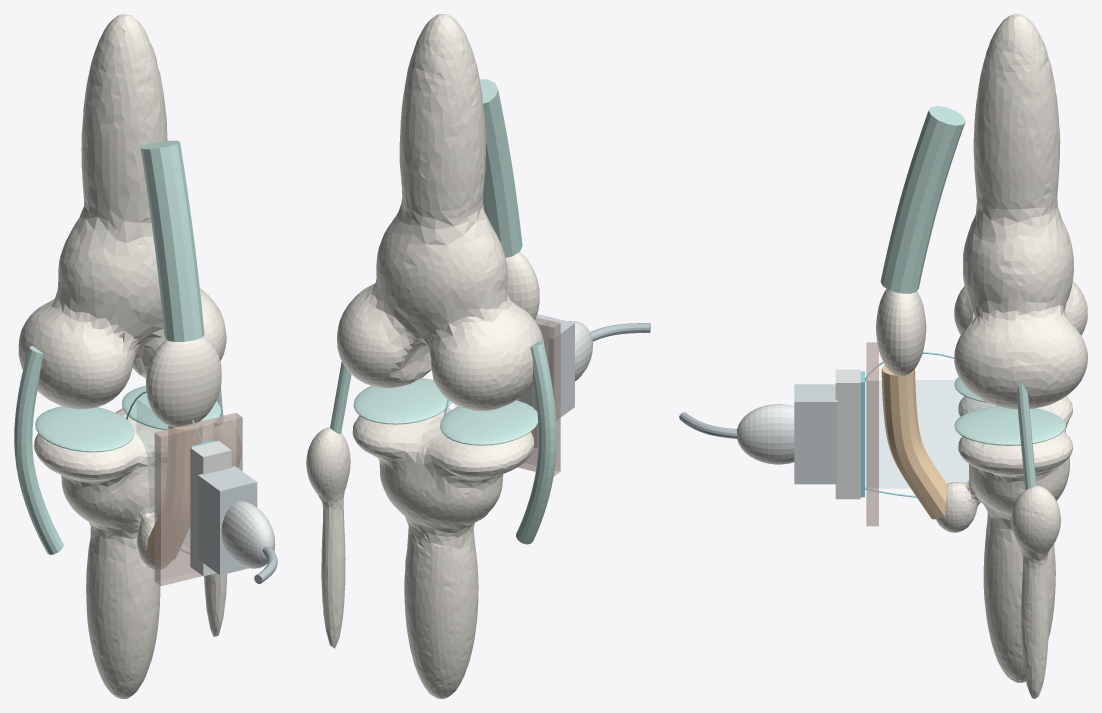
File: knee-long.glb
The picture shows the model from 3 angles, left to right: view 1: azimuth 30°, elevation 25°; view 2: azimuth 150°, elevation 25°; view 3: azimuth 270°, elevation 25°; orthographic projection. The views are drawn at different scales.
Parts seen in each view (by area): view 1: Femur, Tibia, Quadriceps tendon, Local skin contact patch - surrounding skin omitted, Patella - anatomical position, Medial collateral ligament, Transducer body, Patellar tendon, Tibial articular surface -0.35, Transducer grip, Transducer head, Fibula (+3 smaller); view 2: Femur, Tibia, Fibula, Quadriceps tendon, Medial collateral ligament, Tibial articular surface -0.35, Tibial articular surface 0.35, Transducer body, Local skin contact patch - surrounding skin omitted, Patella - anatomical position, Transducer grip, Lateral collateral ligament (+1 smaller); view 3: Femur, Tibia, Quadriceps tendon, Fibula, Illustrative imaging plane - not a simulated sonogram, Patellar tendon, Transducer body, Patella - anatomical position, Transducer head, Tibial articular surface 0.35, Transducer grip, Local skin contact patch - surrounding skin omitted (+3 smaller).
Boxes of the visible parts, <box> form: Femur: <box>18,14,226,409</box>; Tibia: <box>34,408,215,698</box>; Quadriceps tendon: <box>140,140,204,341</box>; Local skin contact patch - surrounding skin omitted: <box>154,413,242,586</box>; Patella - anatomical position: <box>146,336,221,427</box>; Medial collateral ligament: <box>14,346,63,554</box>; Transducer body: <box>198,466,257,575</box>; Patellar tendon: <box>146,420,202,562</box>; Tibial articular surface -0.35: <box>35,406,134,452</box>; Transducer grip: <box>221,501,275,568</box>; Transducer head: <box>190,441,231,576</box>; Fibula: <box>204,416,240,636</box>; Femur: <box>337,14,544,410</box>; Tibia: <box>352,407,534,698</box>; Fibula: <box>306,427,350,648</box>; Quadriceps tendon: <box>479,79,522,257</box>; Medial collateral ligament: <box>516,341,556,544</box>; Tibial articular surface -0.35: <box>440,400,538,445</box>; Tibial articular surface 0.35: <box>353,378,451,424</box>; Transducer body: <box>536,314,574,420</box>; Local skin contact patch - surrounding skin omitted: <box>517,317,560,476</box>; Patella - anatomical position: <box>505,252,539,319</box>; Transducer grip: <box>568,321,592,381</box>; Lateral collateral ligament: <box>330,361,351,433</box>; Femur: <box>954,14,1087,409</box>; Tibia: <box>936,396,1072,682</box>; Quadriceps tendon: <box>880,106,965,293</box>; Fibula: <box>1011,485,1060,698</box>; Illustrative imaging plane - not a simulated sonogram: <box>865,380,992,487</box>; Patellar tendon: <box>881,365,947,519</box>; Transducer body: <box>794,384,837,484</box>; Patella - anatomical position: <box>876,288,926,376</box>; Transducer head: <box>835,369,860,499</box>; Tibial articular surface 0.35: <box>954,406,1065,445</box>; Transducer grip: <box>737,404,794,464</box>; Local skin contact patch - surrounding skin omitted: <box>866,342,878,526</box>.
Bounding box in the file's own units: 1.89 × 5.28 × 2.93.
